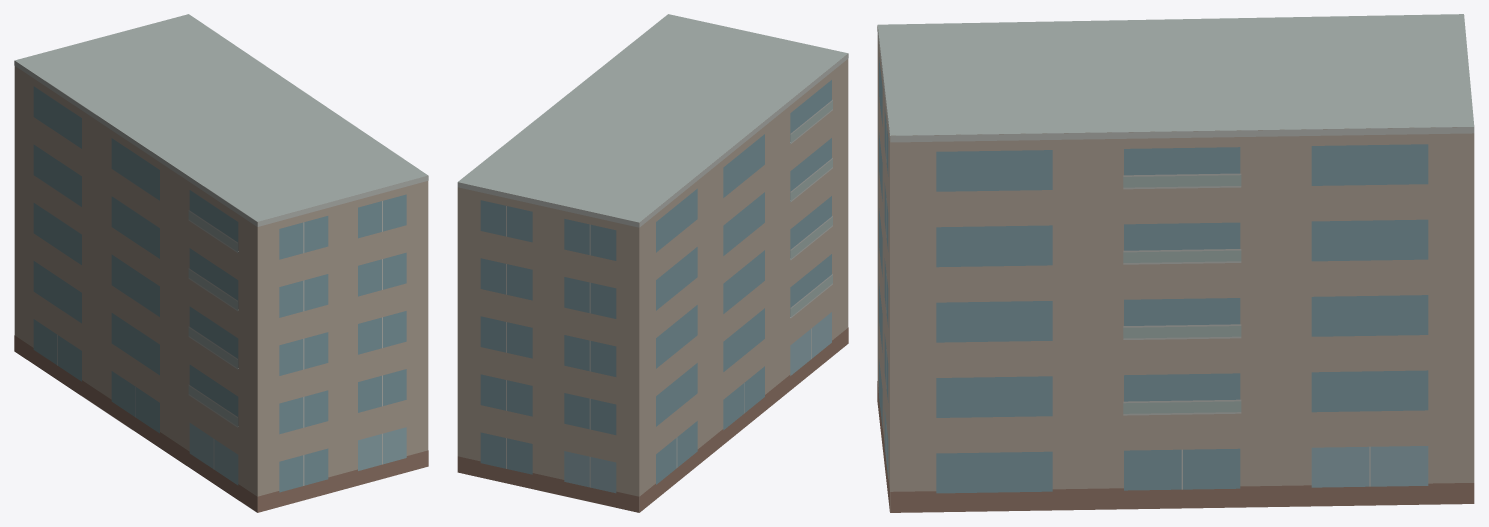
The model's file is survey-upis-32875752.glb.
The picture shows the model from 3 angles, left to right: view 1: azimuth 30°, elevation 25°; view 2: azimuth 150°, elevation 25°; view 3: azimuth 270°, elevation 25°; orthographic projection. The views are drawn at different scales.
Visible parts, largest first — view 1: survey-upis-32875752.tmp; view 2: survey-upis-32875752.tmp; view 3: survey-upis-32875752.tmp.
Boxes of the visible parts, <box> form: survey-upis-32875752.tmp: <box>14,14,428,512</box>; survey-upis-32875752.tmp: <box>457,14,848,512</box>; survey-upis-32875752.tmp: <box>877,14,1474,512</box>.
Size of the model in its own units: 9.57 by 13.8 by 19.81.
